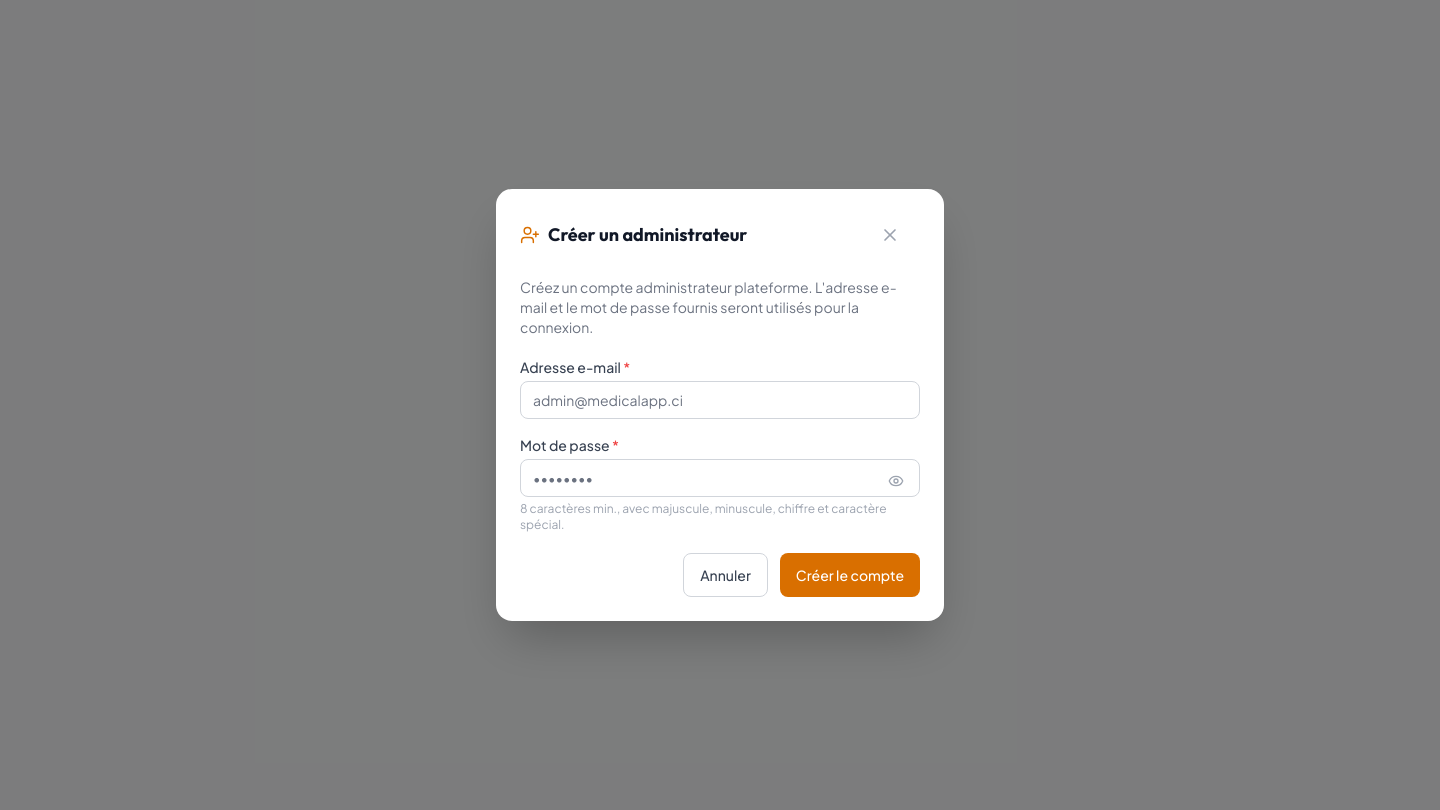
Test: CreateAdminModal.vue › displays API error on submission failure
Type "test-admin@example.com" into the field with id "admin-email" at (720,400), box [520,381,920,419]
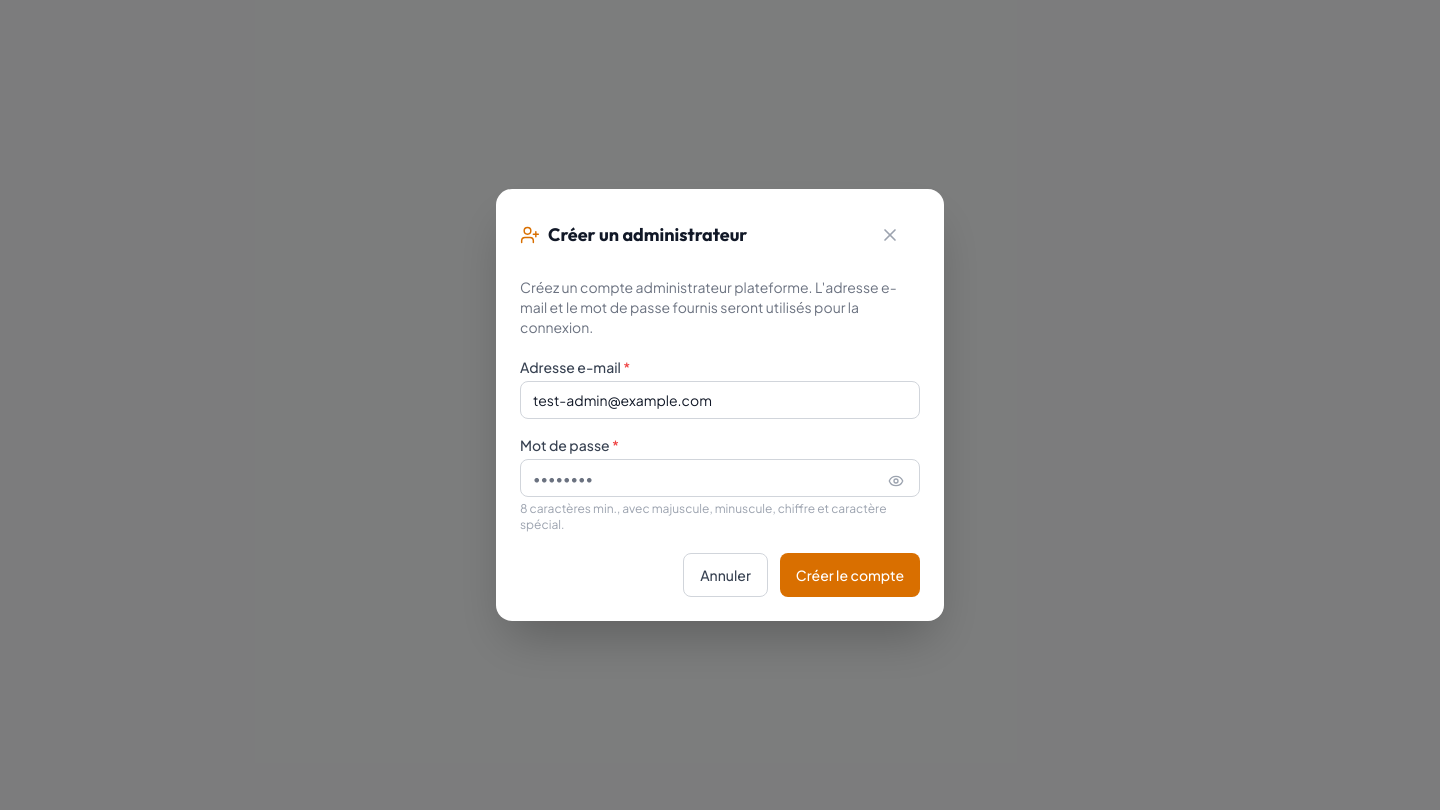
Type "Password123!" into the password field with id "admin-password" at (720,478), box [520,459,920,497]
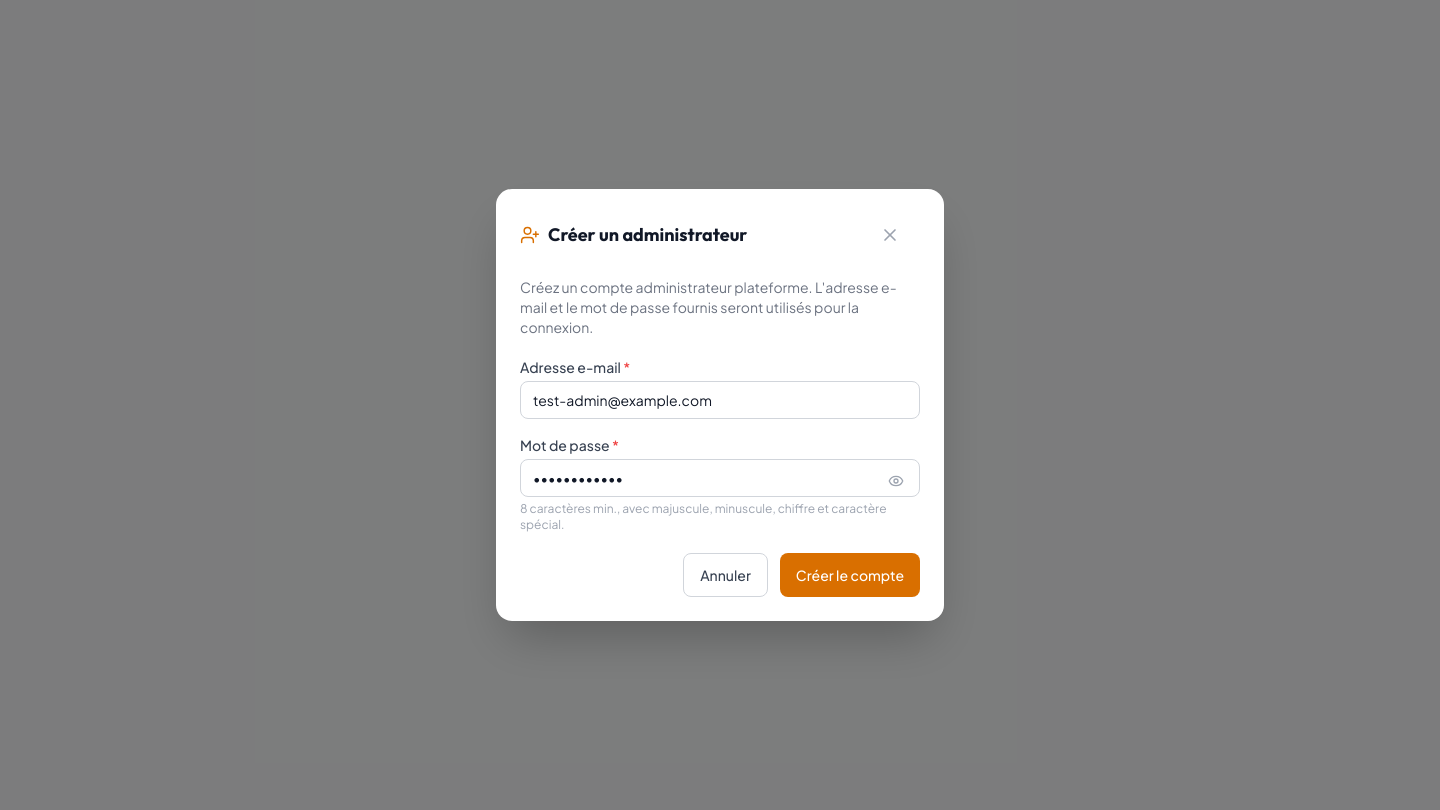
Submit the form, box [520,357,920,597]
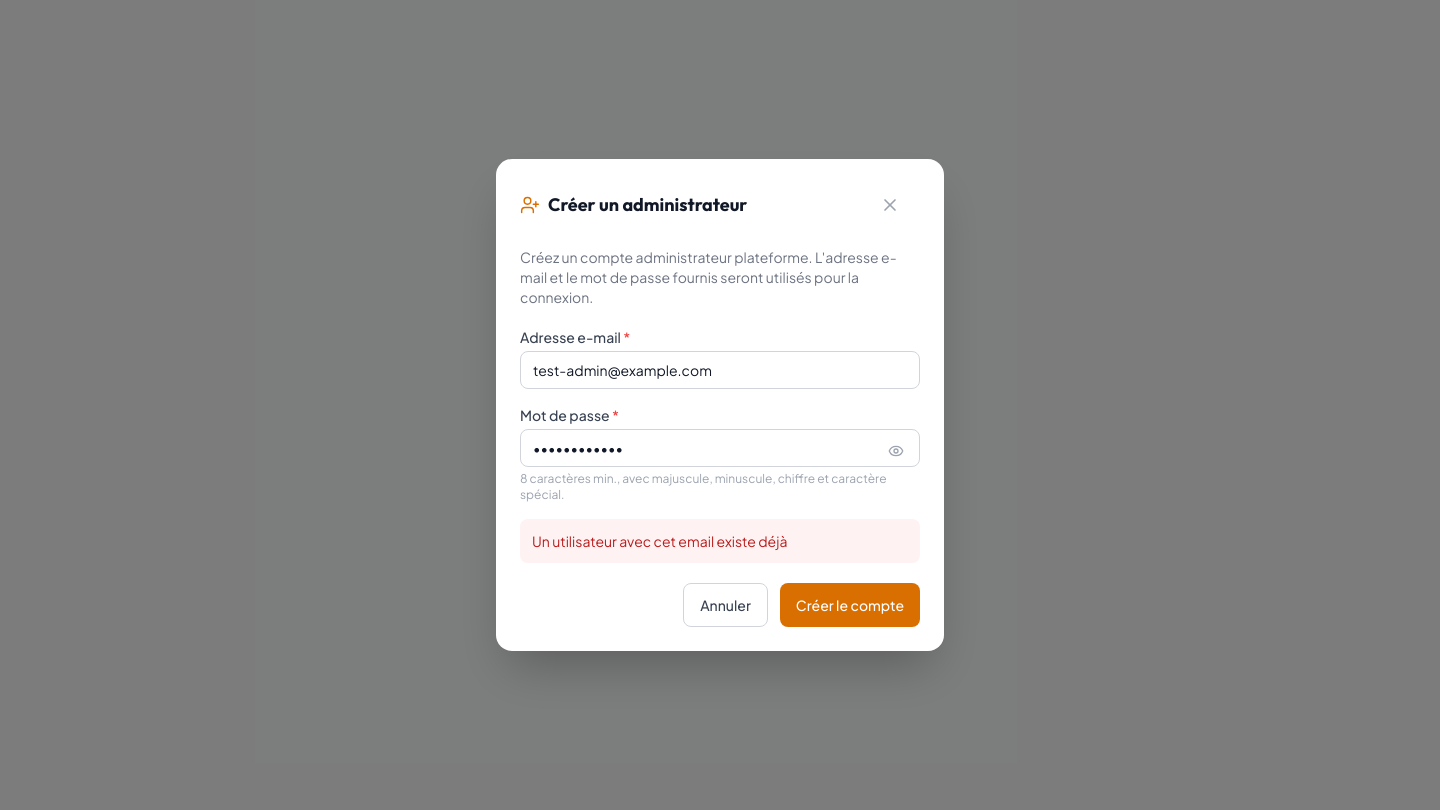
Expected: the message "Un utilisateur avec cet email existe déjà" is shown, [520,519,920,563]
